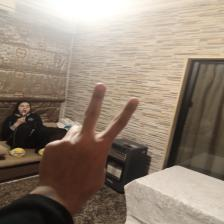two: (47, 84, 141, 193)
